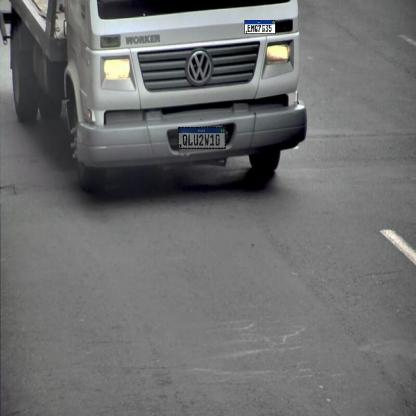PlacaM: (178, 127, 226, 149), (244, 20, 276, 34)
